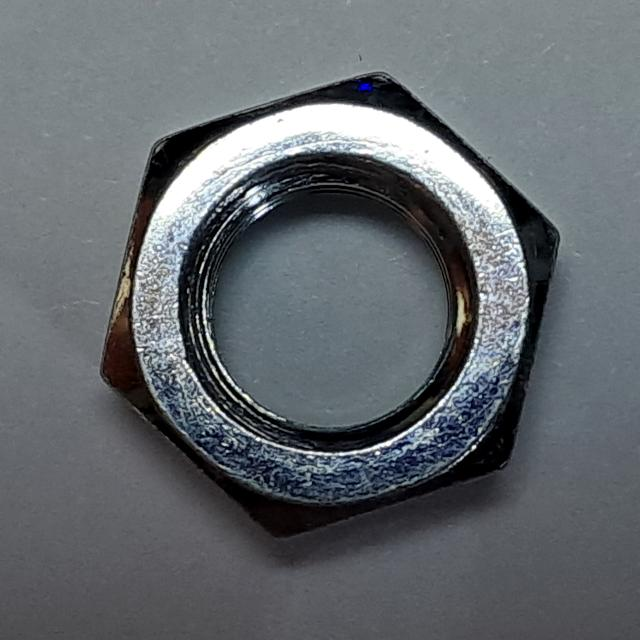Excellent: (79, 53, 578, 550)
